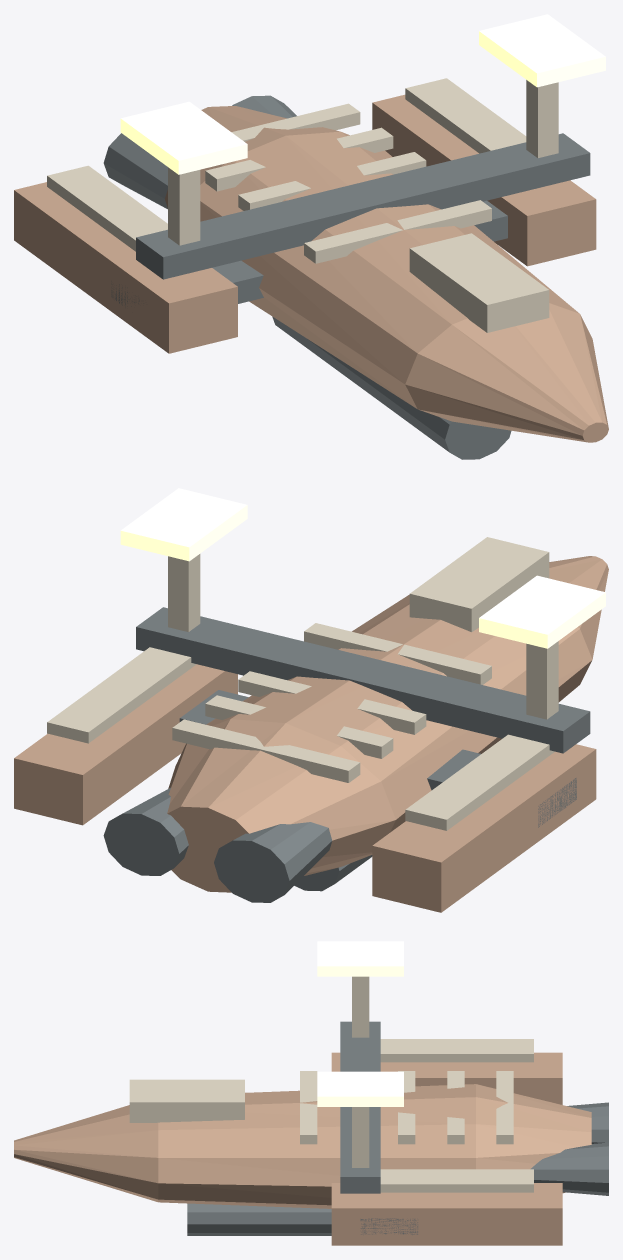
3 views of the same model, one above another, from view 1: azimuth 30°, elevation 25°; view 2: azimuth 150°, elevation 25°; view 3: azimuth 270°, elevation 25° (orthographic). The views are drawn at different scales.
Size of the model in its own units: 2.88 by 1.85 by 4.66.
